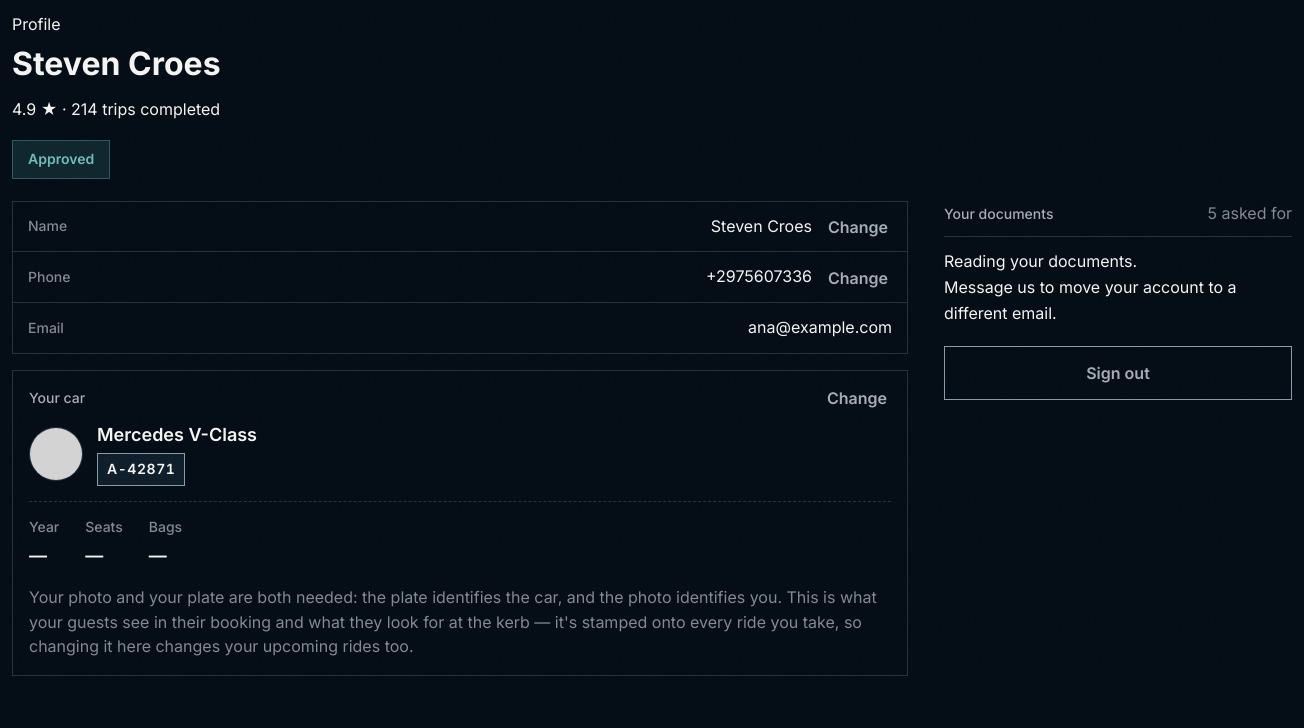
Test: Profile › lets a driver change the number guests reach them on
Click the button "Change" next to "+2975607336" at [858, 278], box [824,256,892,300]
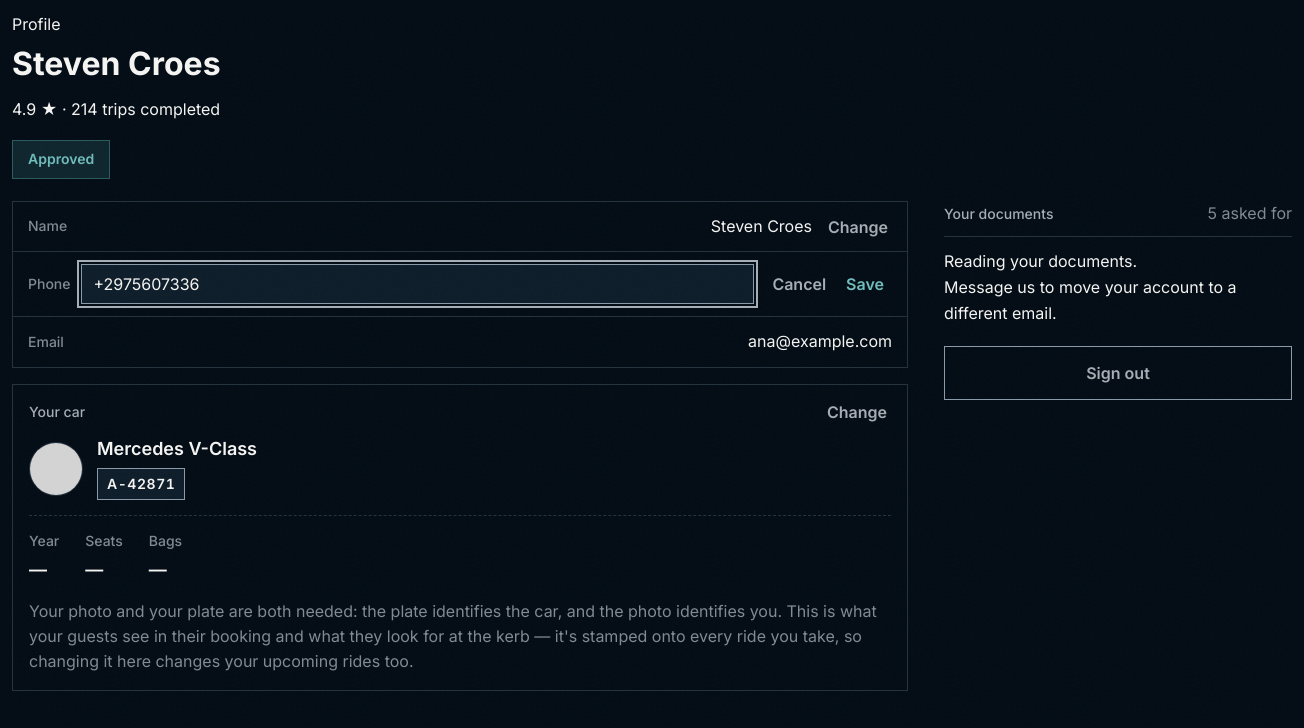
Replace the text in the field labelled "Phone" with "+297 594 1122" at [417, 284], box [80,264,754,304]
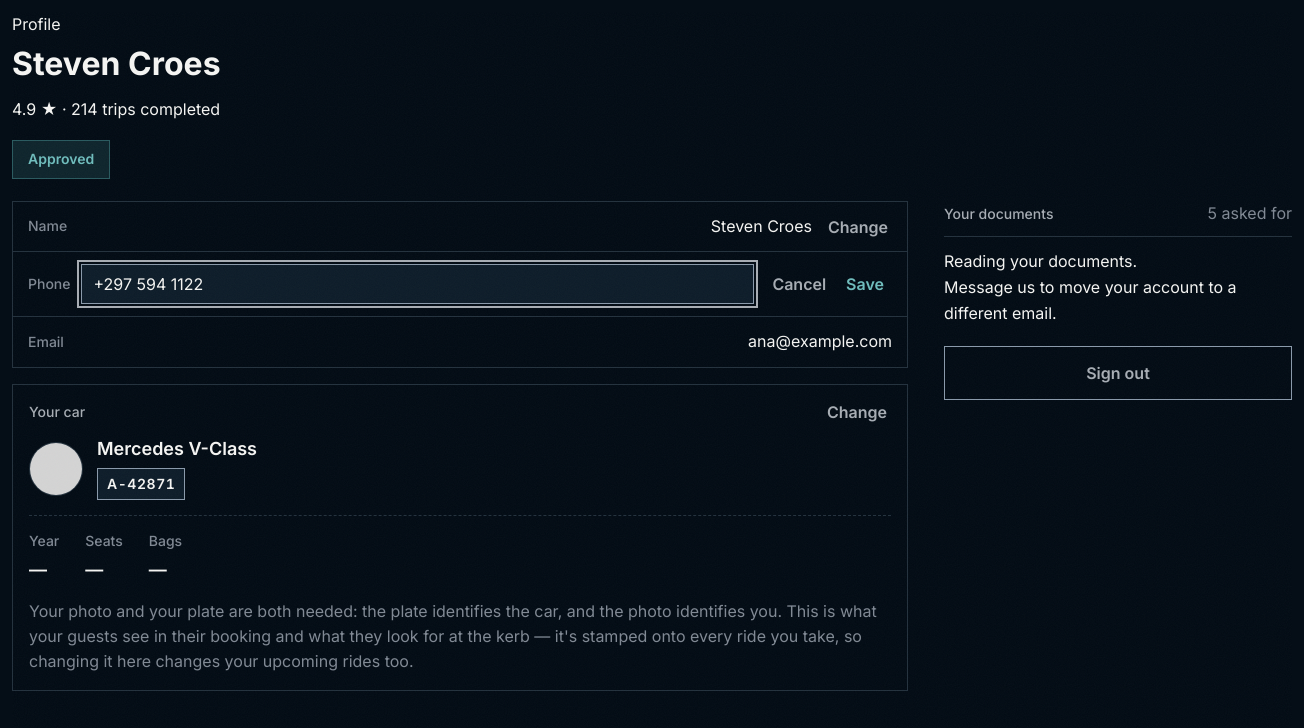
Click the button "Save" at [865, 284], box [838,264,892,304]
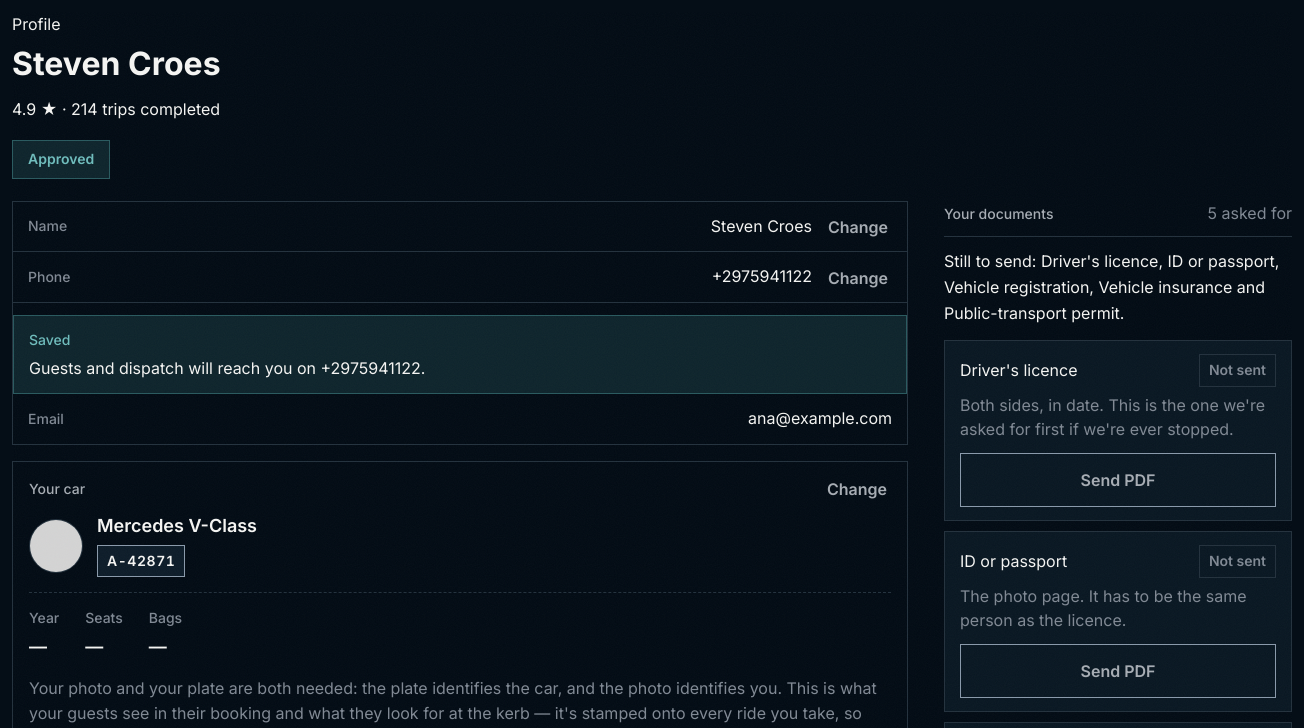
expect the text "Guests and dispatch will reach you on +2975941122." is shown: met, box [29,358,425,378]
